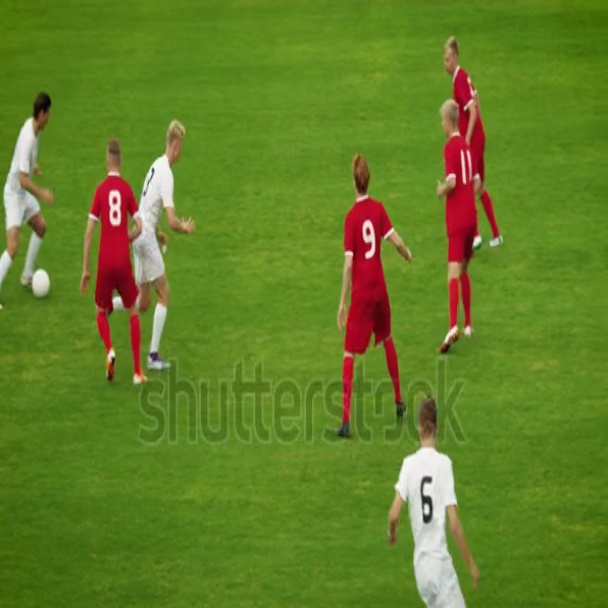ball: (31, 270, 52, 302)
